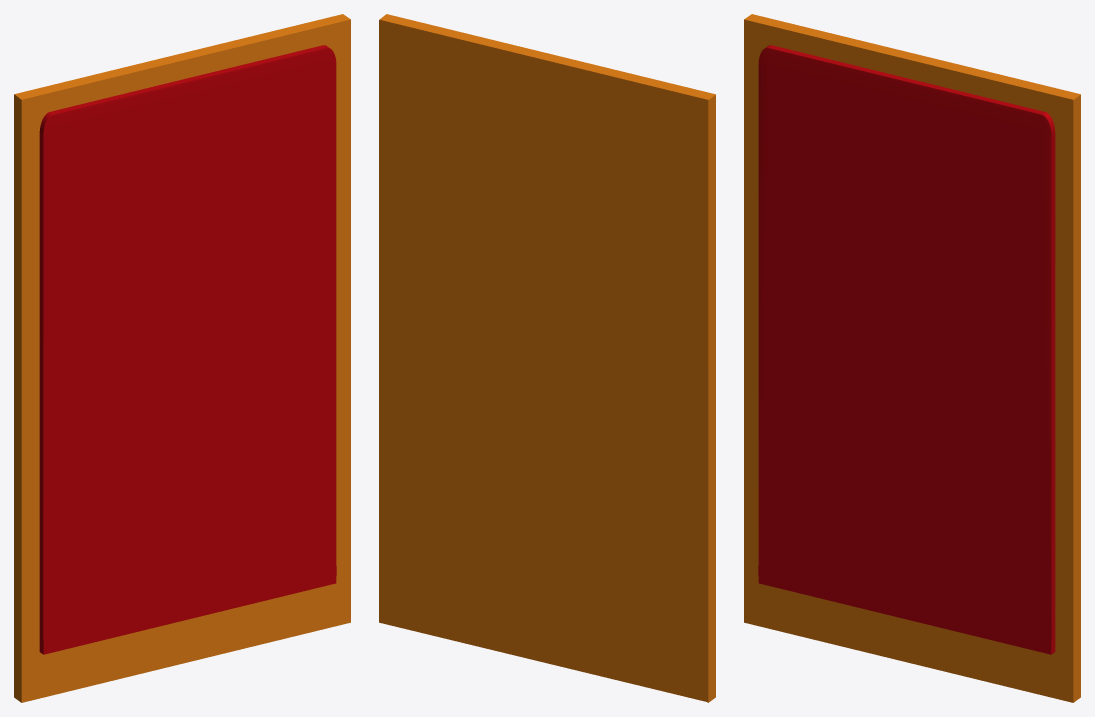
Rendered from 20220516_GAMESPAWN_LINEemUP_BANNER V1.2 BLANK.fbx.
3 renders of one model, left to right at view 1: azimuth 30°, elevation 25°; view 2: azimuth 150°, elevation 25°; view 3: azimuth 330°, elevation 25°, orthographic.
Parts seen in each view (by area): view 1: Cube.001, Cube; view 2: Cube; view 3: Cube.001, Cube.
Boxes of the visible parts, left/top/right/bottom form: Cube.001: left=39, top=45, right=336, bottom=654; Cube: left=14, top=14, right=350, bottom=702; Cube: left=379, top=14, right=715, bottom=702; Cube.001: left=758, top=45, right=1055, bottom=654; Cube: left=744, top=14, right=1080, bottom=702.
Size of the model in its own units: 200 by 350 by 12.
